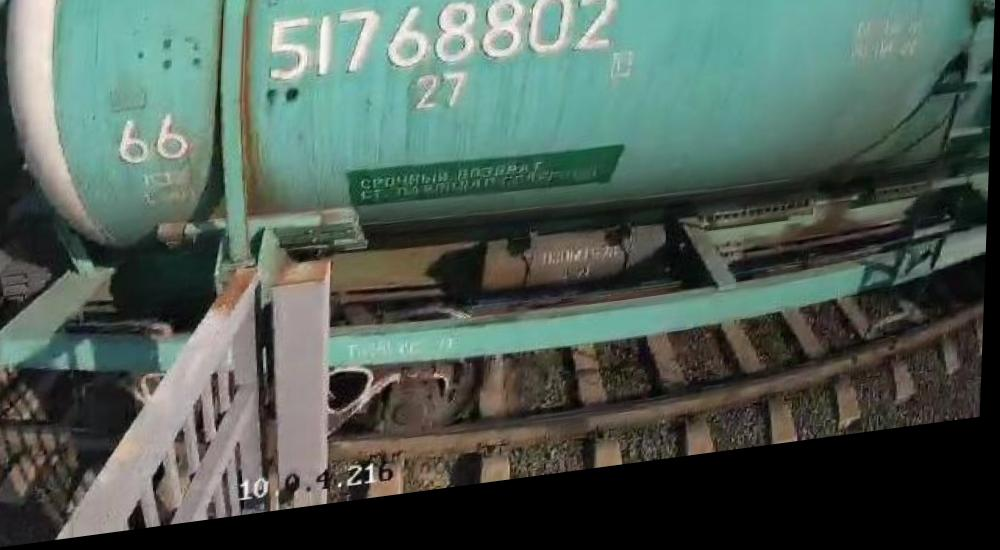Wagon-number: (263, 0, 621, 107)
